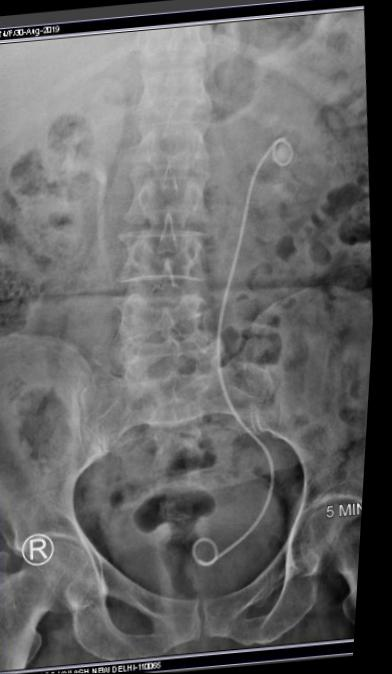bladder: (88, 463, 304, 613)
right kidney: (0, 73, 141, 290)
vertebrae: (128, 116, 221, 183)
